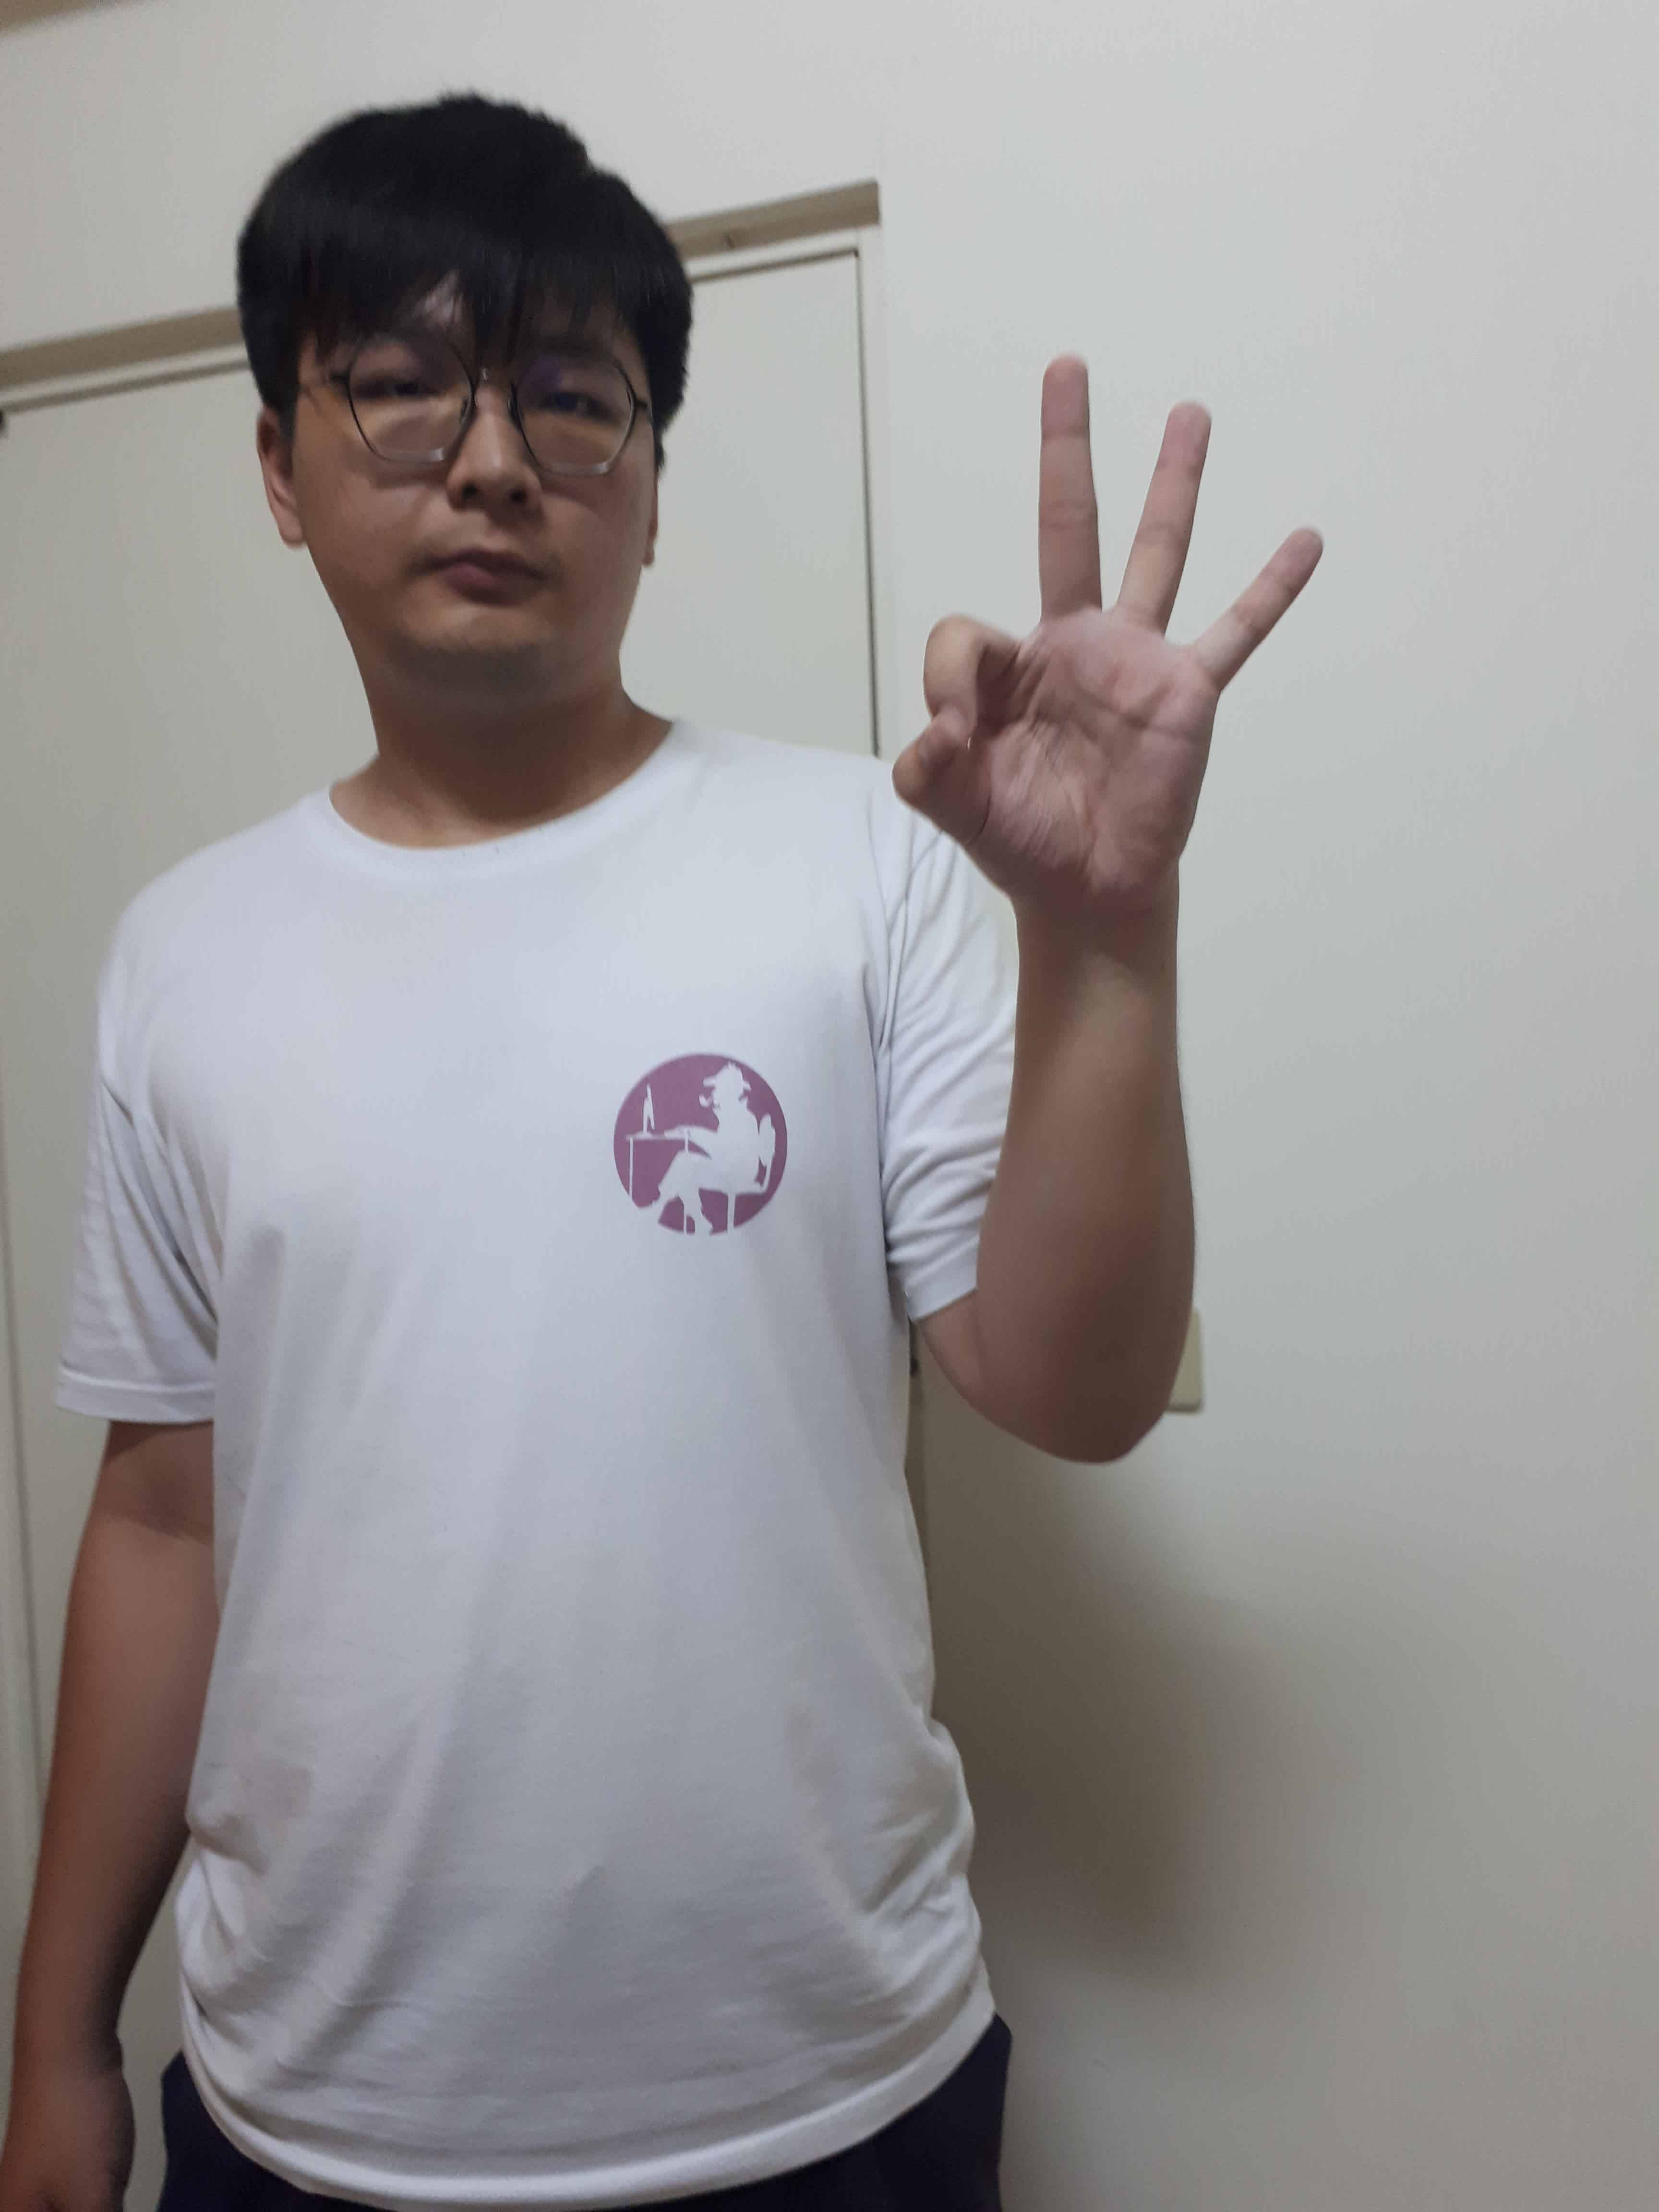ok: (887, 340, 1335, 928)
